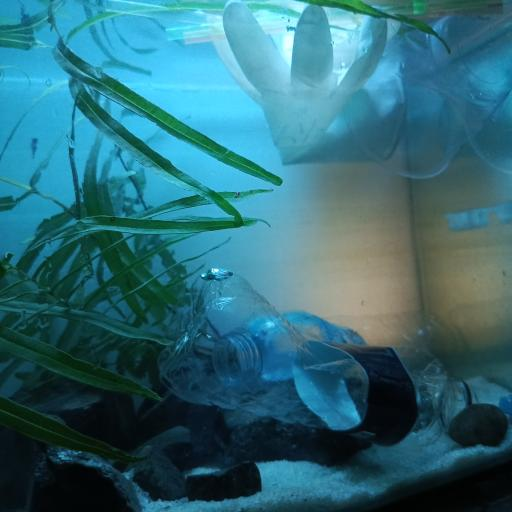bottle_cap: (500, 394, 512, 412)
glove: (212, 0, 407, 167)
plastic_bottle: (160, 267, 478, 448), (213, 309, 471, 383)
plastic_cup: (347, 15, 508, 180)
plastic_straw: (103, 0, 221, 26), (165, 21, 303, 41), (364, 0, 503, 15)
